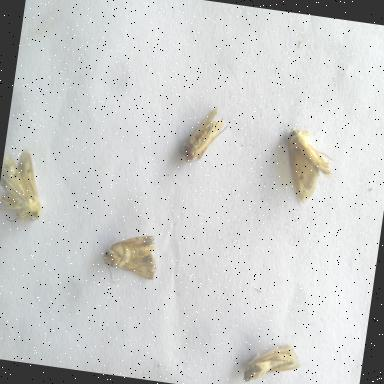abw: (276, 119, 342, 212), (0, 138, 55, 235), (174, 97, 236, 179), (94, 225, 164, 296), (236, 329, 309, 384)
